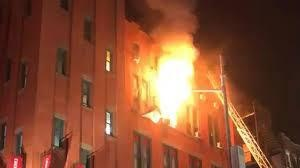fire: (142, 42, 199, 125)
